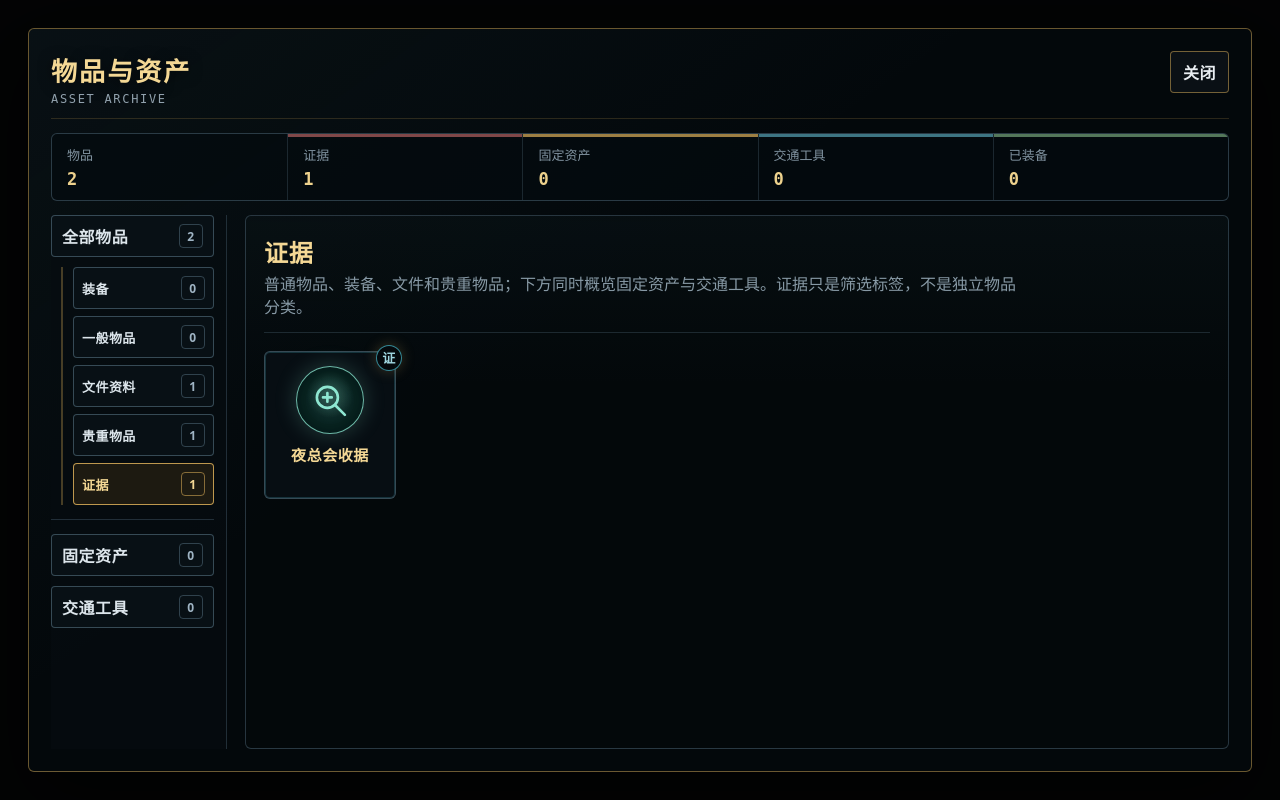
AssetArchiveModal › keeps evidence and valuable item details as text-only records
Click the button "夜总会收据 证": (330, 425) [264, 351, 396, 499]
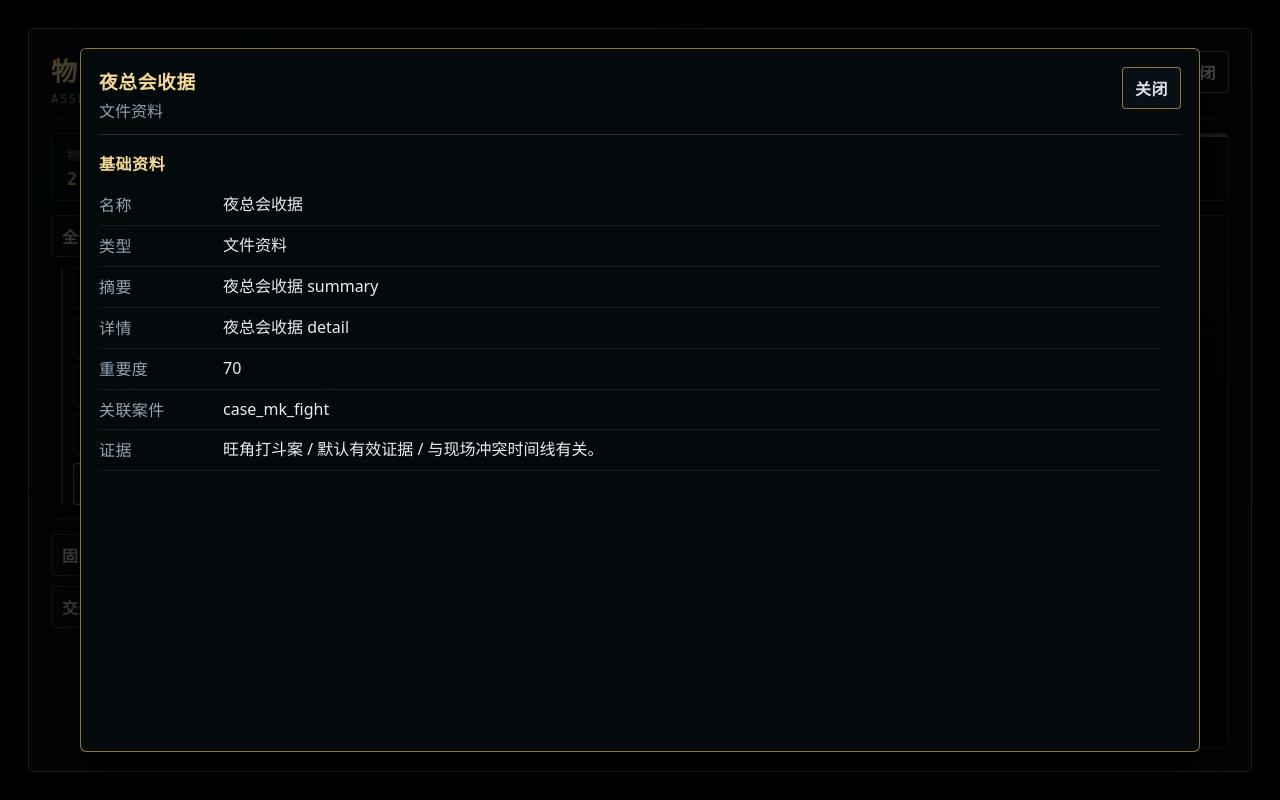
Expected: the element with class "asset-detail-layout--plain" is shown, [99, 156, 1163, 471]
Click the button "关闭": (1151, 88) [1122, 67, 1181, 109]
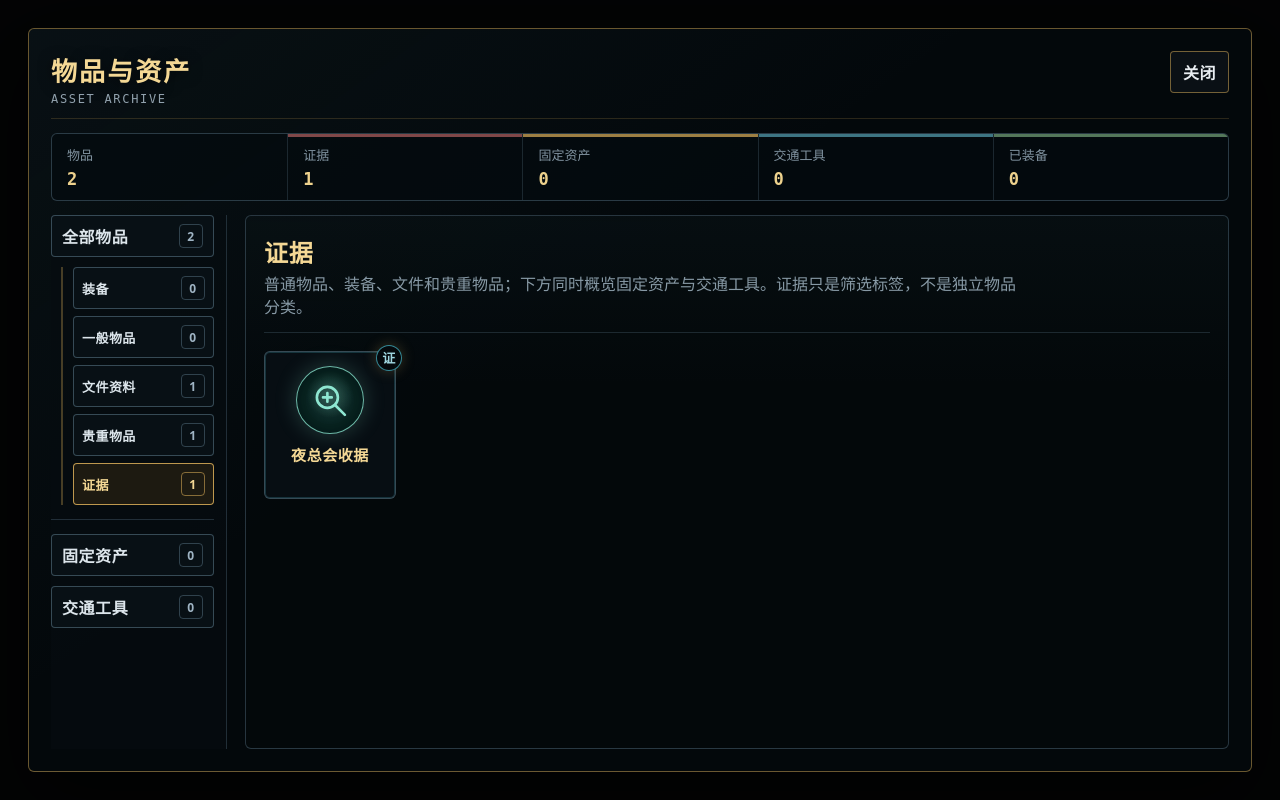
Click the button named "贵重物品1": (144, 435) [73, 414, 214, 456]
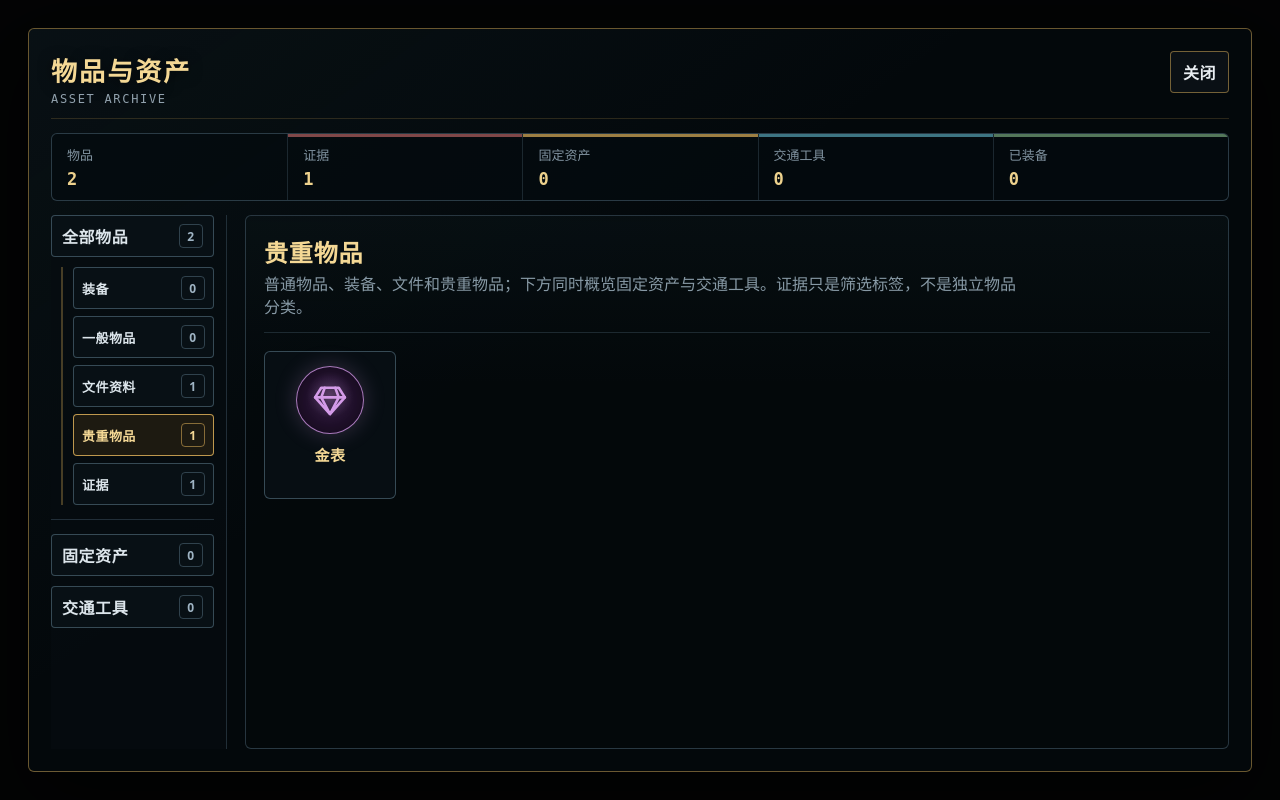
Click the button "金表": (330, 425) [264, 351, 396, 499]
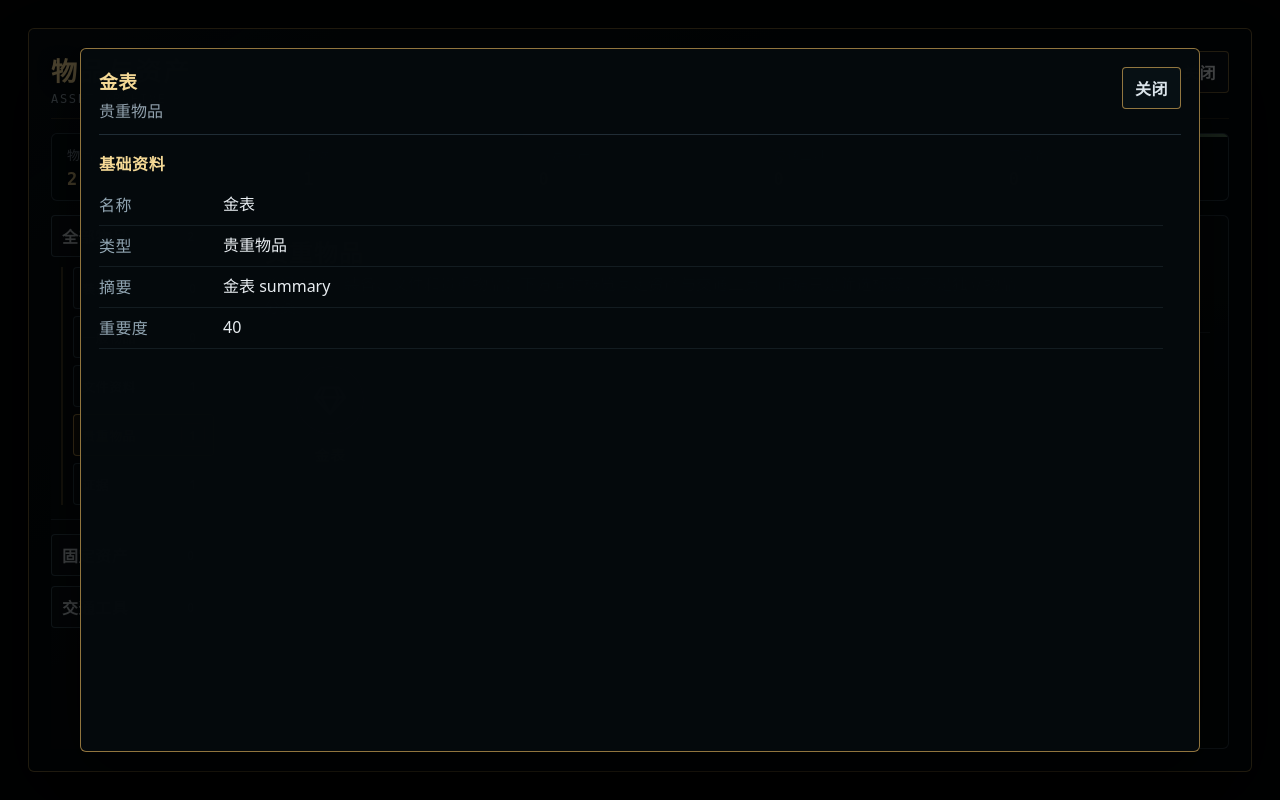
Expected: the element with class "asset-detail-layout--plain" is shown, [99, 156, 1163, 349]
